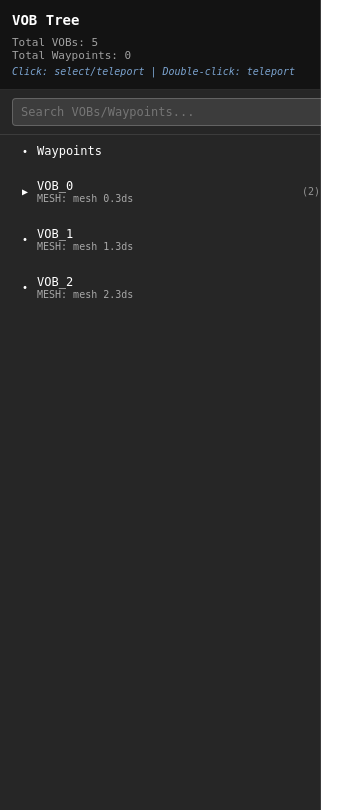
Test: VOBTree Component › Expand/Collapse Functionality › should expand node when clicked
This screenshot has width=338, height=810.
// Find and click the first VOB (which has children)
Click the text "VOB_0".
click(55, 186)  # box [37,178,73,192]
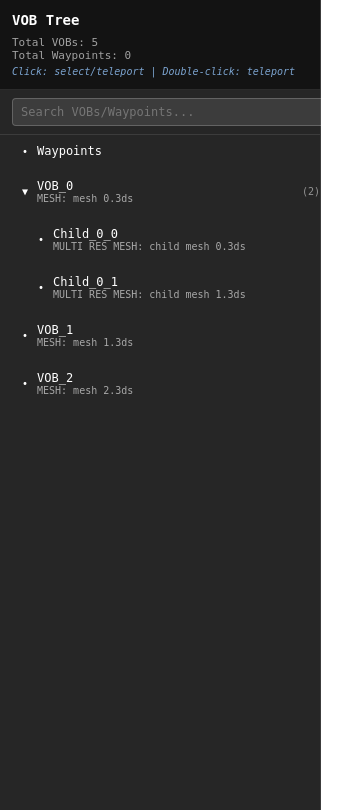
Result: the text "Child_0_0" is shown at [53,226,118,240]
Result: the text "Child_0_1" is shown at [53,274,118,288]
